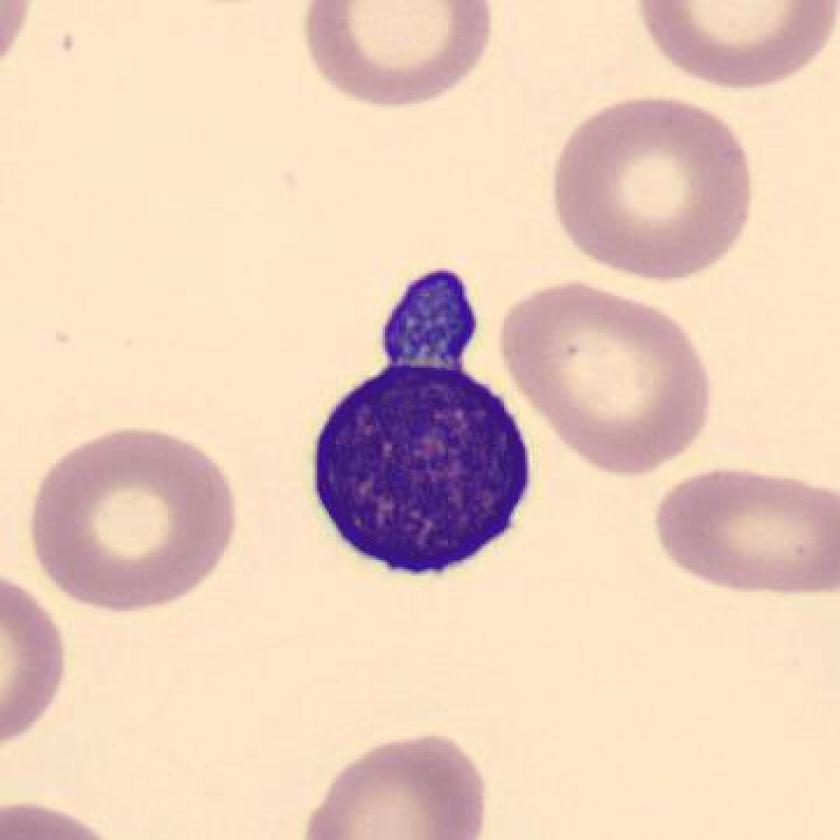lymphocyte: (300, 263, 549, 584)
